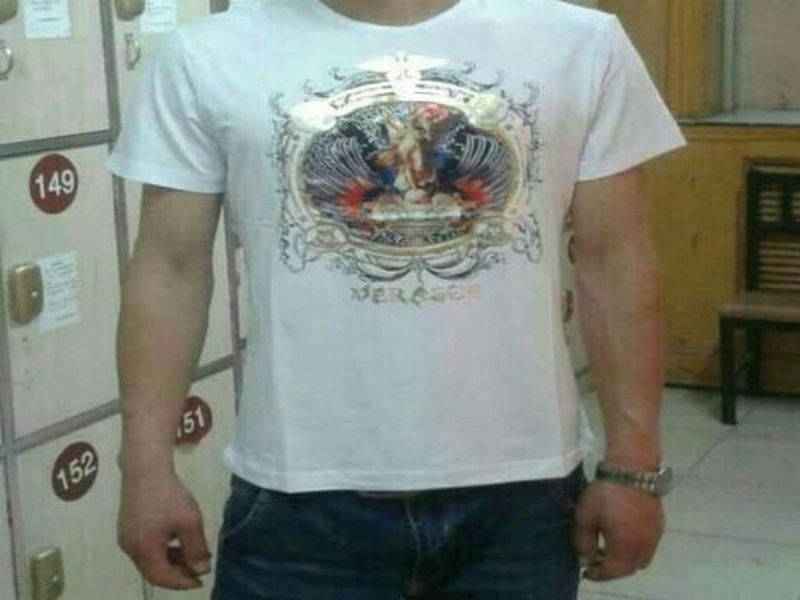short_sleeved_shirt: (97, 1, 699, 503)
trousers: (205, 418, 597, 599)
